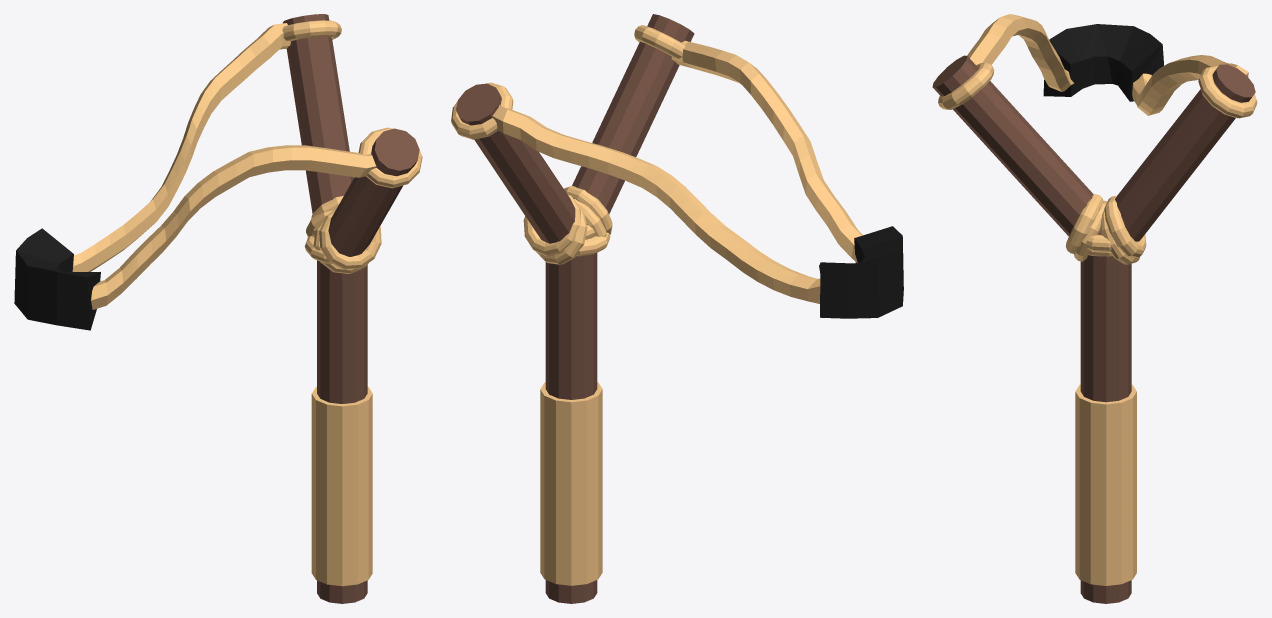
The model's file is Slingshot.glb.
3 renders of one model, left to right at view 1: azimuth 30°, elevation 25°; view 2: azimuth 150°, elevation 25°; view 3: azimuth 270°, elevation 25°, orthographic. The views are drawn at different scales.
Visible parts, largest first — view 1: Node; view 2: Node; view 3: Node.
Part boxes in pixels (left/top/right/bottom): Node: left=14, top=14, right=422, bottom=603; Node: left=451, top=14, right=903, bottom=603; Node: left=932, top=14, right=1257, bottom=603.
Size of the model in its own units: 1.11 by 1.51 by 0.8275.
